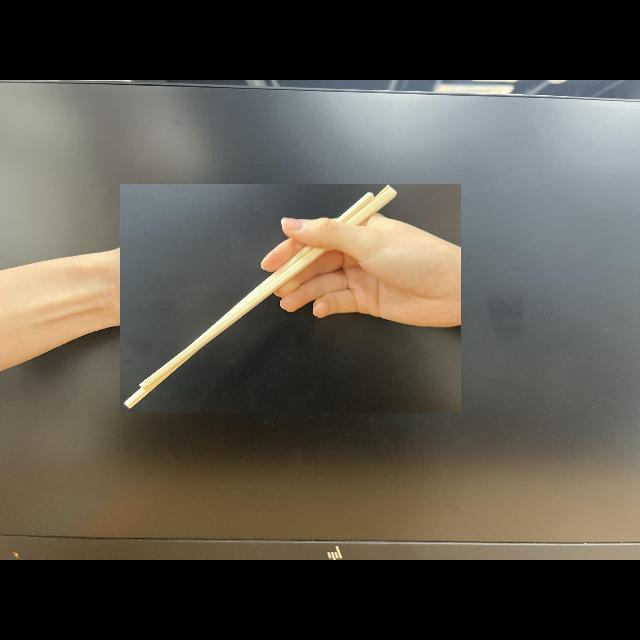stick: (120, 184, 460, 412)
